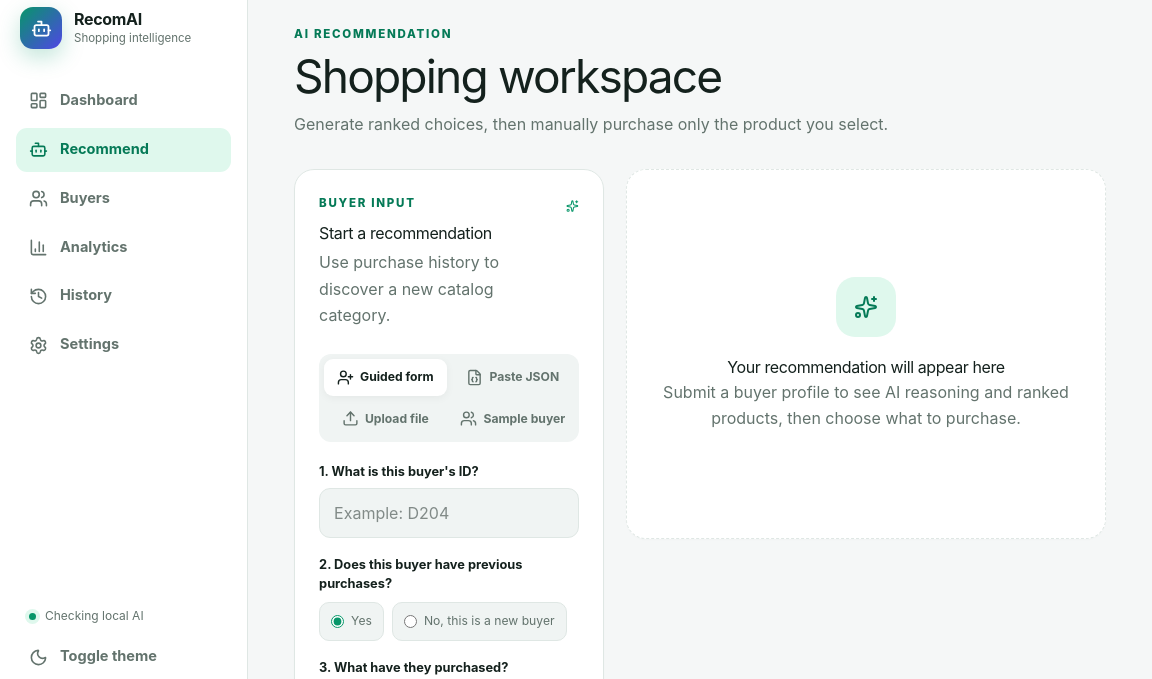
Test case: portfolio app › builds valid buyer JSON from the guided questions
Step 1. Type "D204" into the field named "guided buyer id" → (449, 513), box [319,488,579,538]
(page scrolled)
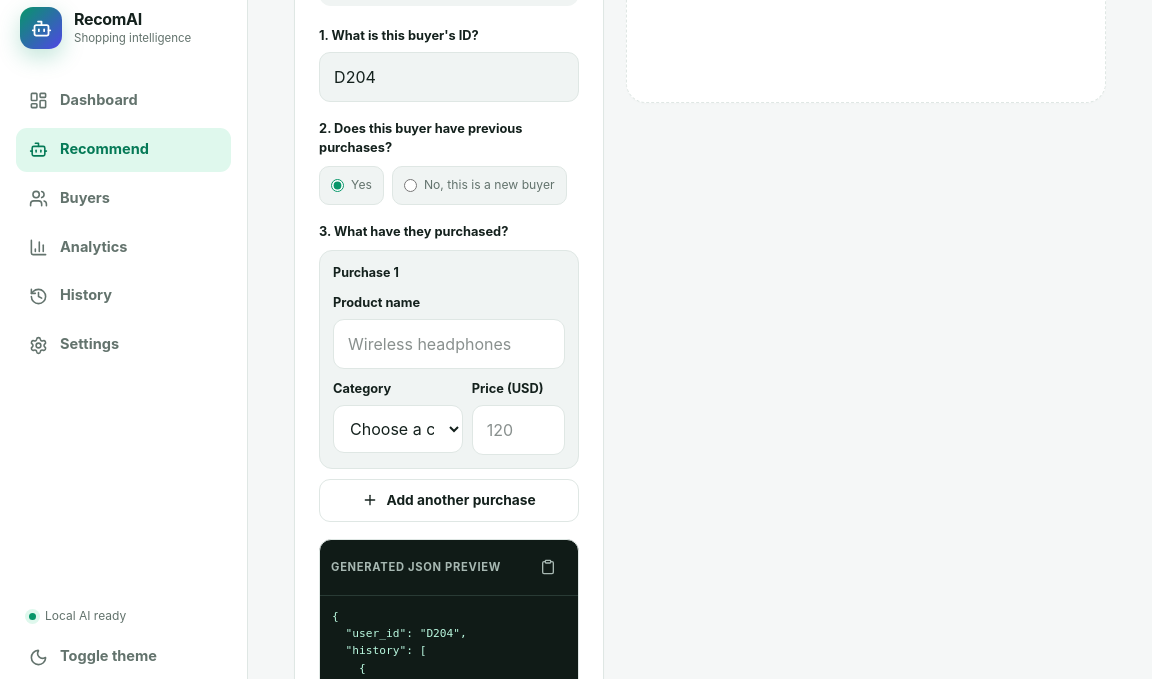
Step 2. Type "Camera bag" into the field with placeholder "Wireless headphones" → (449, 344), box [333,319,565,369]
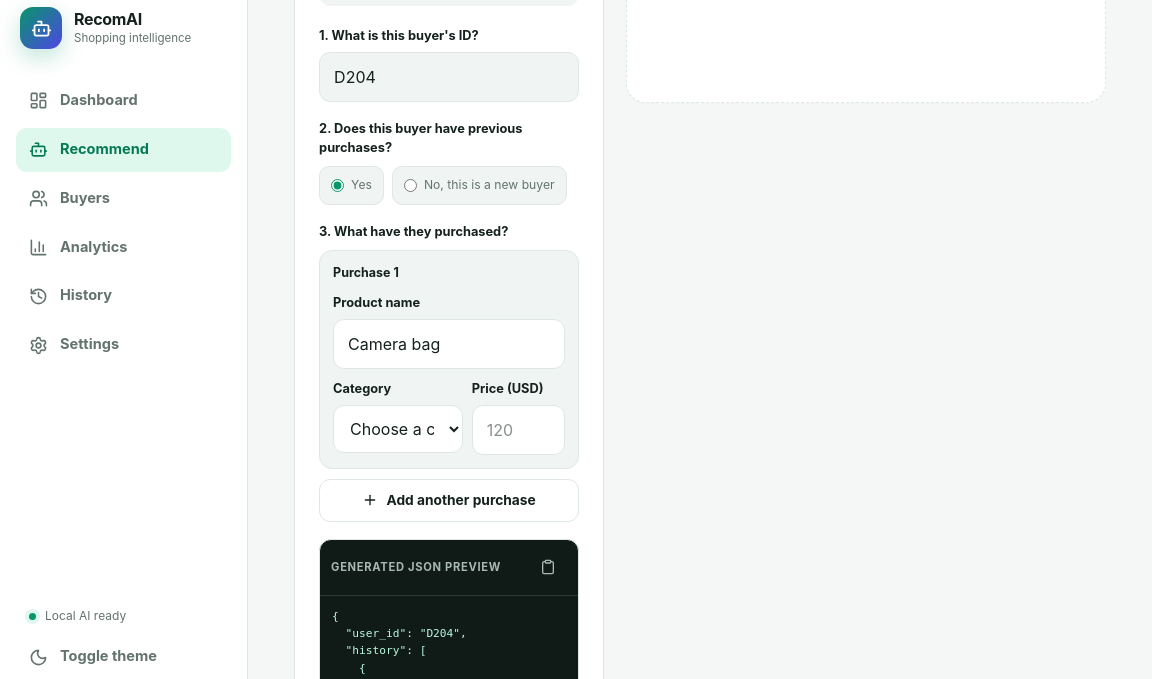
Step 3. Select "Electronics" in the dropdown labelled "Category" → (398, 429), box [333,405,463,453]
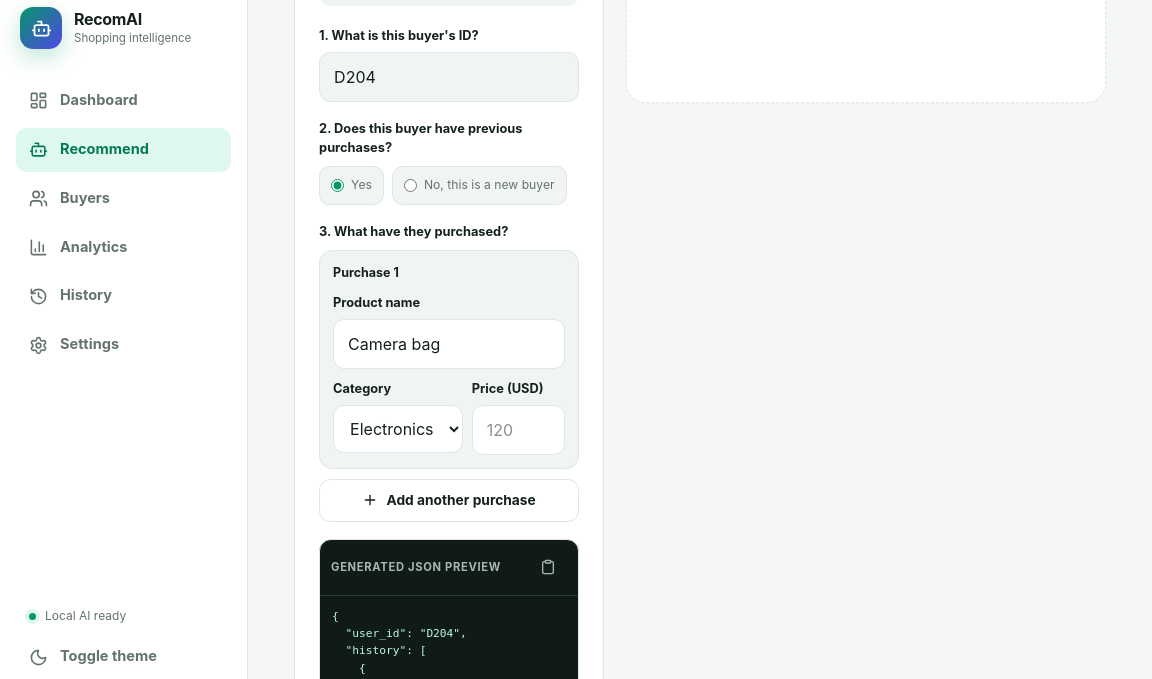
Step 4. Type "75" into the number field with placeholder "120" → (518, 430), box [472,405,565,455]
(page scrolled)
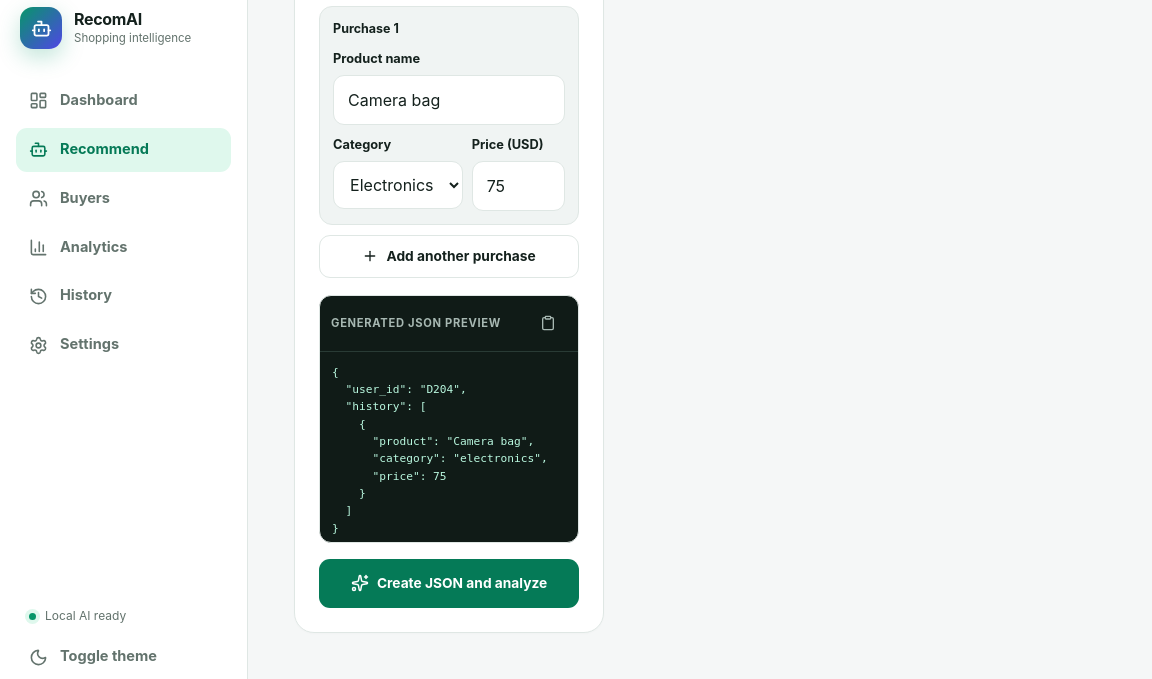
Step 5. Click the button "Create JSON and analyze" → click(449, 583), box [319,558,579,608]
(page scrolled)
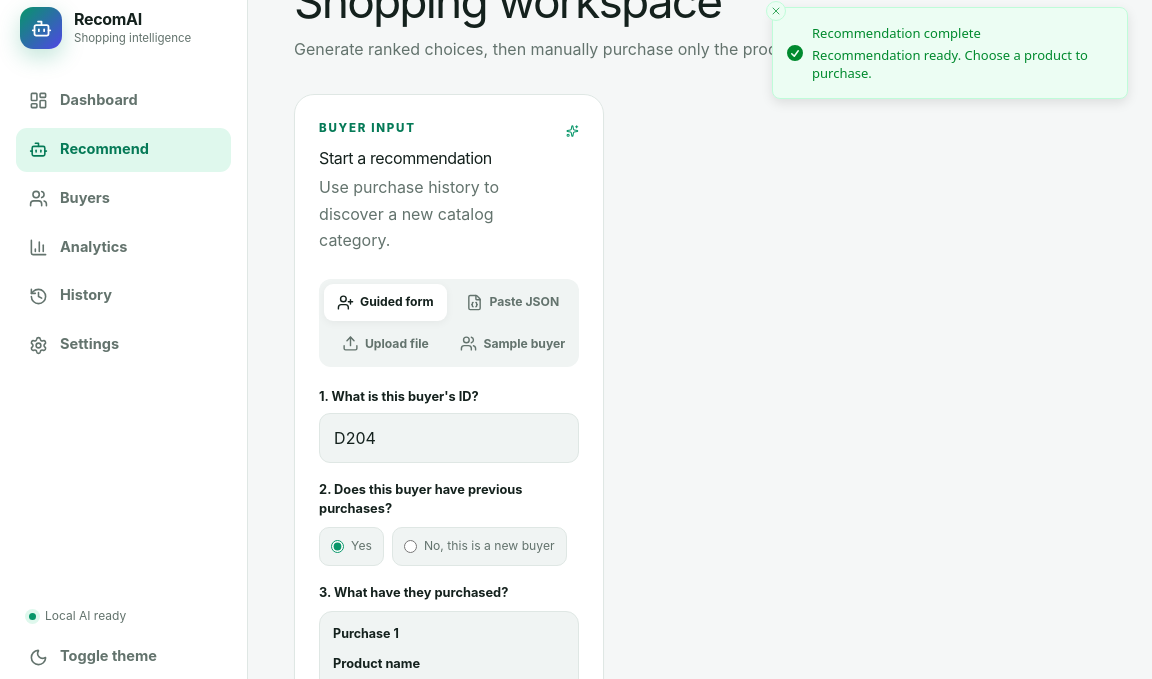
Step 6. Click the tab "Sample buyer" → click(513, 344), box [452,326,574,362]
(page scrolled)
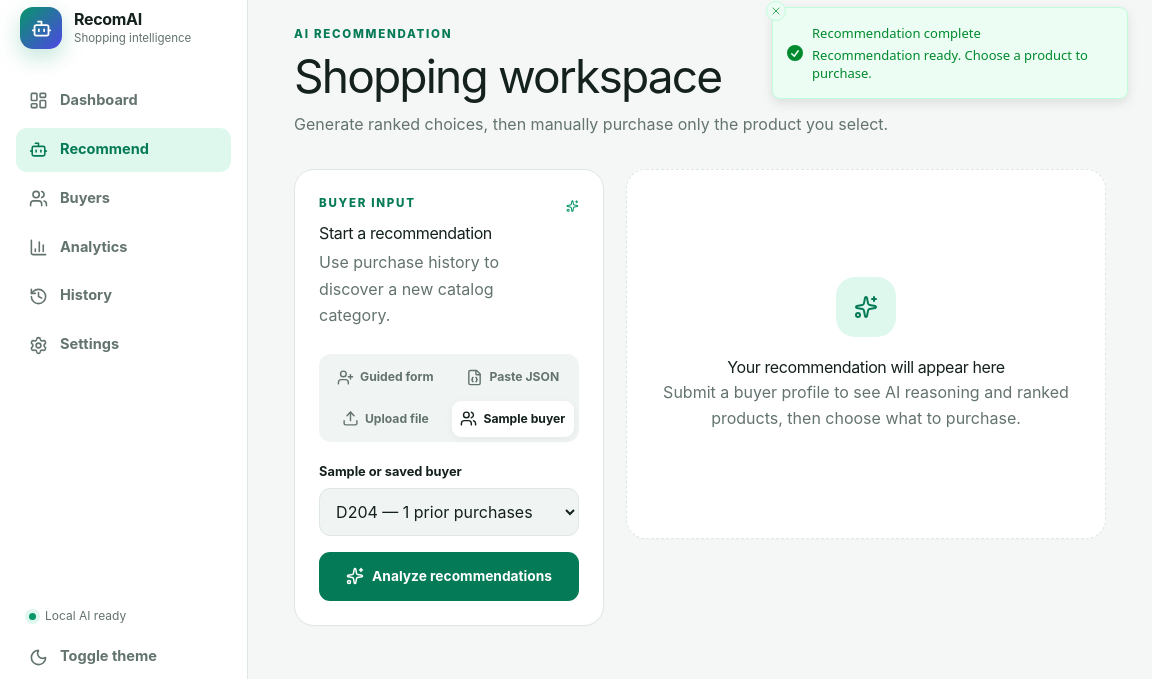
Check: the heading "Your recommendation will appear here" is shown, box [727,355,1005,379]
